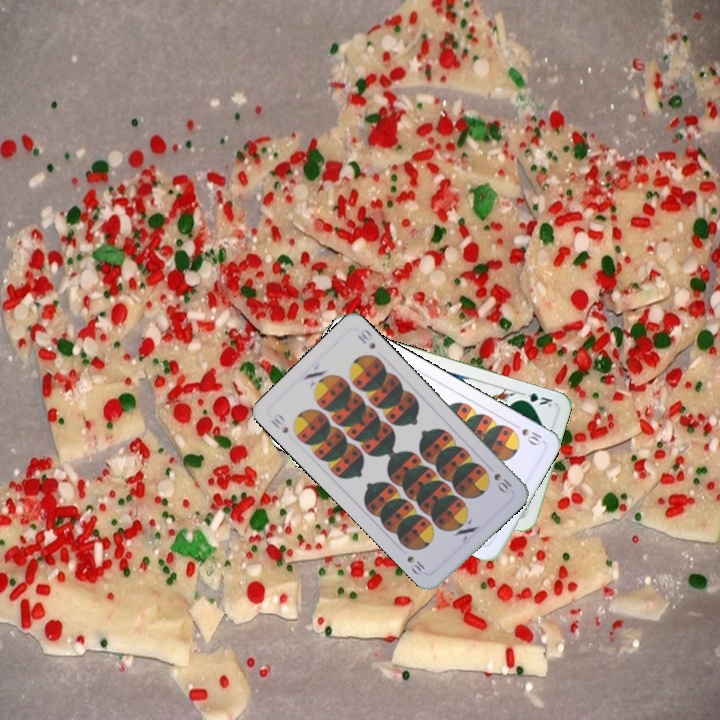GK: (515, 388, 555, 410)
S10: (509, 419, 546, 448), (266, 410, 291, 436), (490, 469, 514, 494)
